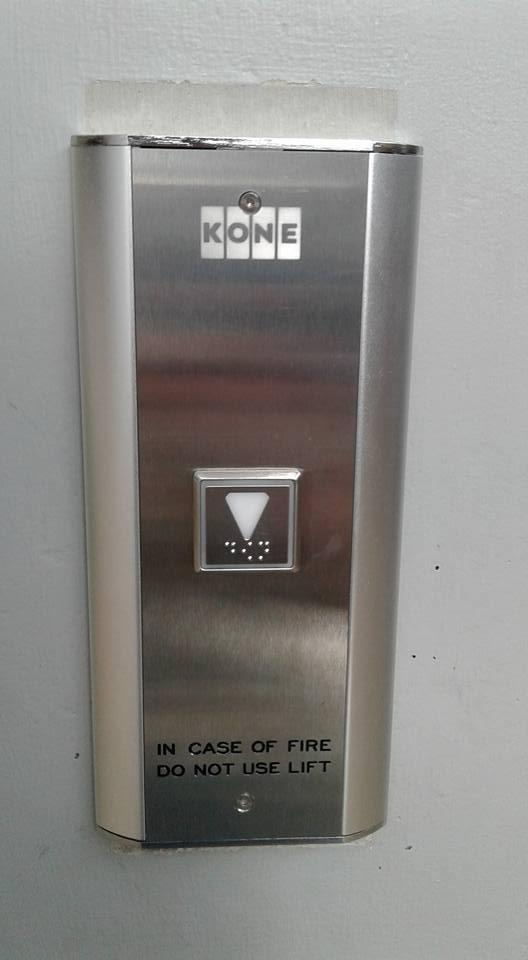down: (187, 462, 305, 582)
